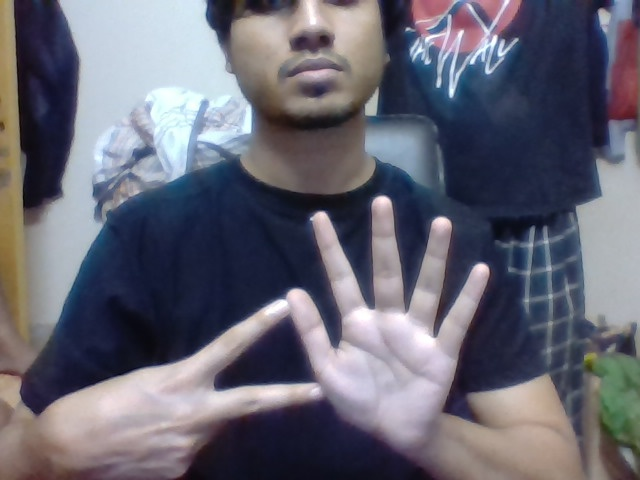N: (184, 299, 290, 424)
